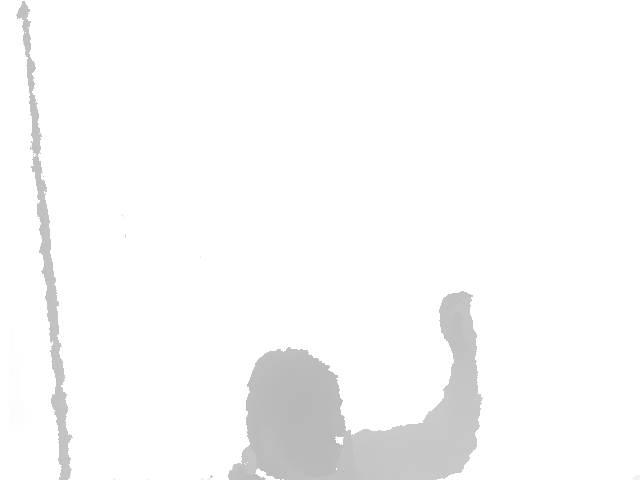hand: (439, 290, 478, 359)
head: (245, 348, 347, 480)
person: (228, 290, 484, 480)
